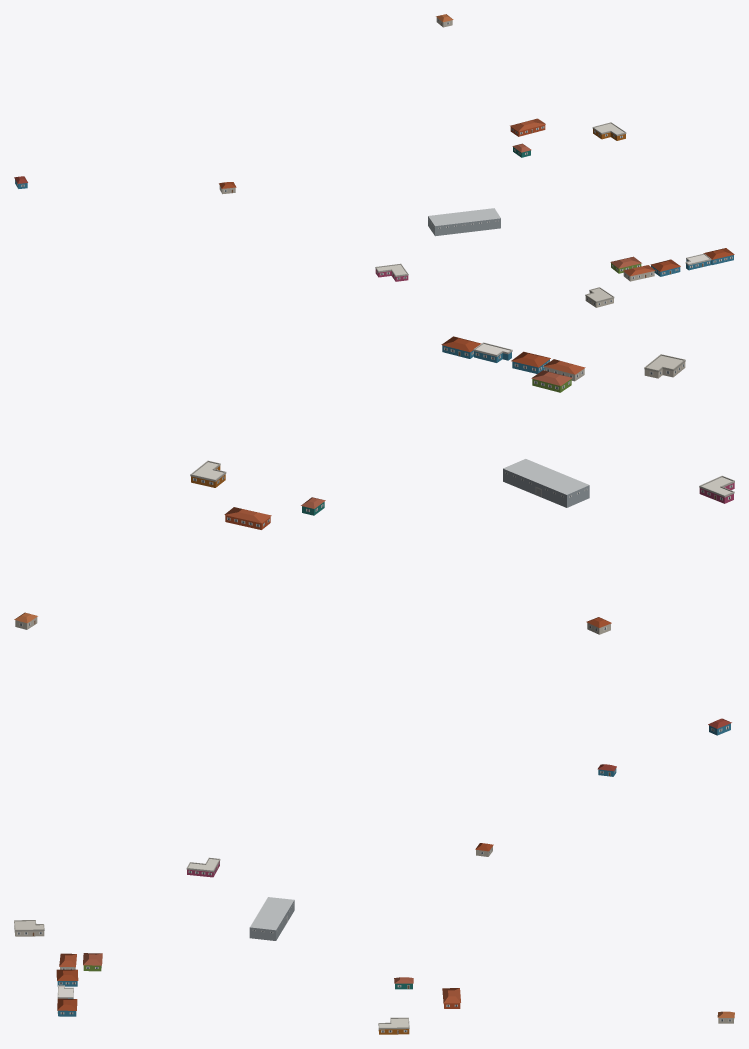
Rendered from msb_noord_m19_m14.glb.
3 renders of one model, top to bottom at view 1: azimuth 30°, elevation 25°; view 2: azimuth 150°, elevation 25°; view 3: azimuth 270°, elevation 25°, orthographic. The views are drawn at different scales.
Parts seen in each view (by area): view 1: msb_noord_m19_m14_lod0; view 2: msb_noord_m19_m14_lod0; view 3: msb_noord_m19_m14_lod0.
Part boxes in pixels (<box>): msb_noord_m19_m14_lod0: <box>14,14,734,307</box>; msb_noord_m19_m14_lod0: <box>14,336,734,735</box>; msb_noord_m19_m14_lod0: <box>14,764,734,1034</box>.
Size of what is drawn, in the model's own units: 332 by 8.23 by 379.
3 materials, 1 textured.
